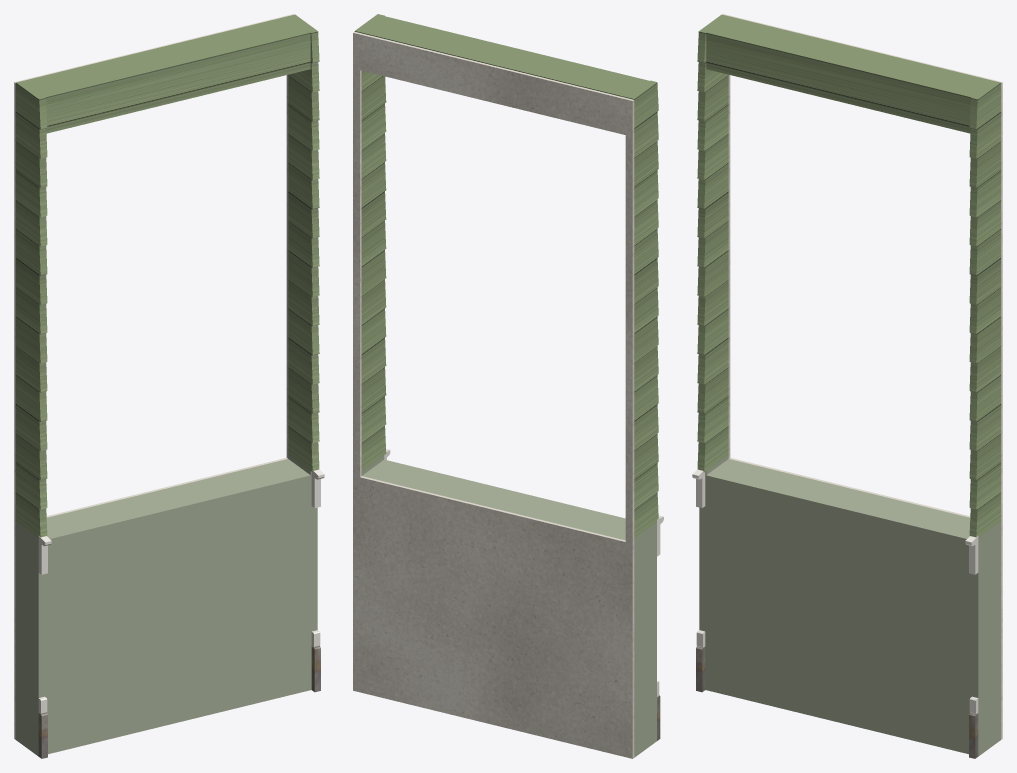
Rendered from f_g_bay_b.glb.
The picture shows the model from 3 angles, left to right: view 1: azimuth 30°, elevation 25°; view 2: azimuth 150°, elevation 25°; view 3: azimuth 330°, elevation 25°; orthographic projection.
Visible parts, largest first — view 1: f_g_bay_b_acc_b, f_g_bay_b_siding_b, f_g_bay_b_plaster, f_g_bay_b_trim, f_g_bay_b_plinth; view 2: f_g_bay_b_plaster, f_g_bay_b_siding_b, f_g_bay_b_acc_b; view 3: f_g_bay_b_acc_b, f_g_bay_b_siding_b, f_g_bay_b_plaster, f_g_bay_b_trim, f_g_bay_b_plinth.
Part boxes in pixels (x1,y1,x2,y2): f_g_bay_b_acc_b: (16,455,317,756); f_g_bay_b_siding_b: (16,14,319,537); f_g_bay_b_plaster: (14,14,293,739); f_g_bay_b_trim: (38,469,324,713); f_g_bay_b_plinth: (38,646,320,758); f_g_bay_b_plaster: (353,31,634,758); f_g_bay_b_siding_b: (354,14,658,537); f_g_bay_b_acc_b: (361,455,656,757); f_g_bay_b_acc_b: (699,455,1000,756); f_g_bay_b_siding_b: (697,14,1000,537); f_g_bay_b_plaster: (723,14,1002,739); f_g_bay_b_trim: (692,469,978,713); f_g_bay_b_plinth: (696,646,978,758).
Size of the model in its own units: 2 by 4.5 by 0.385.
Materials: 5 (3 with a texture image).
